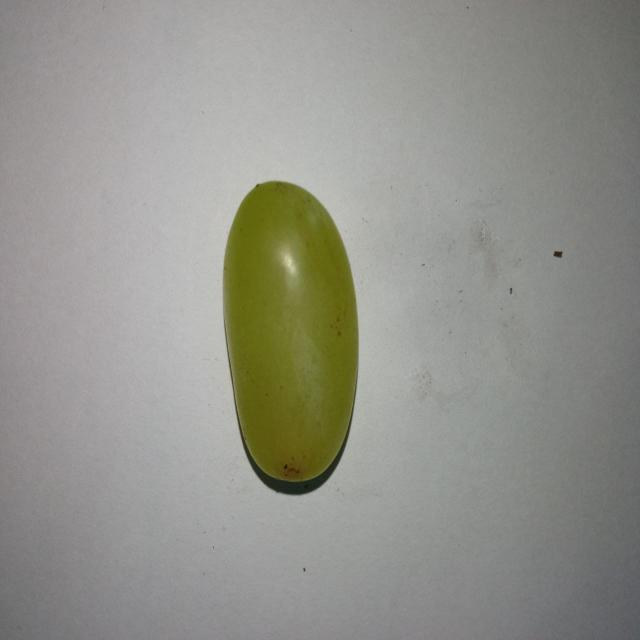fresh_grape: (218, 176, 362, 490)
